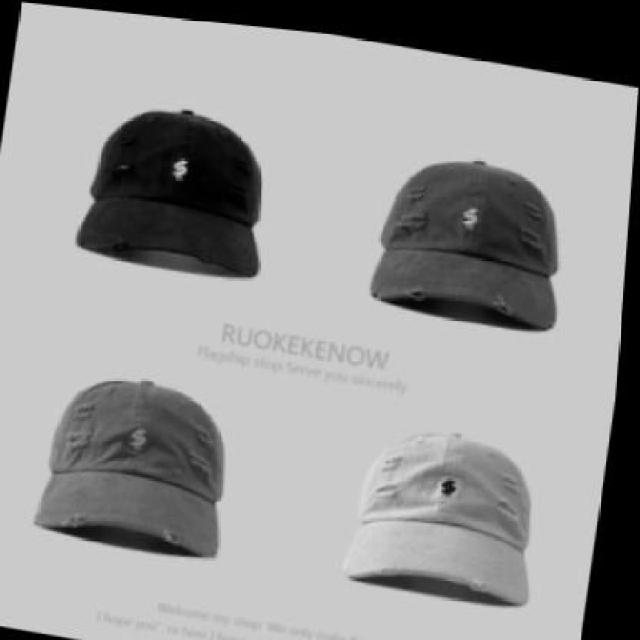hat: (36, 356, 253, 569), (345, 398, 560, 611), (367, 129, 584, 331), (75, 86, 287, 279)
